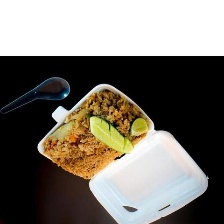foam_box: (32, 79, 214, 224)
